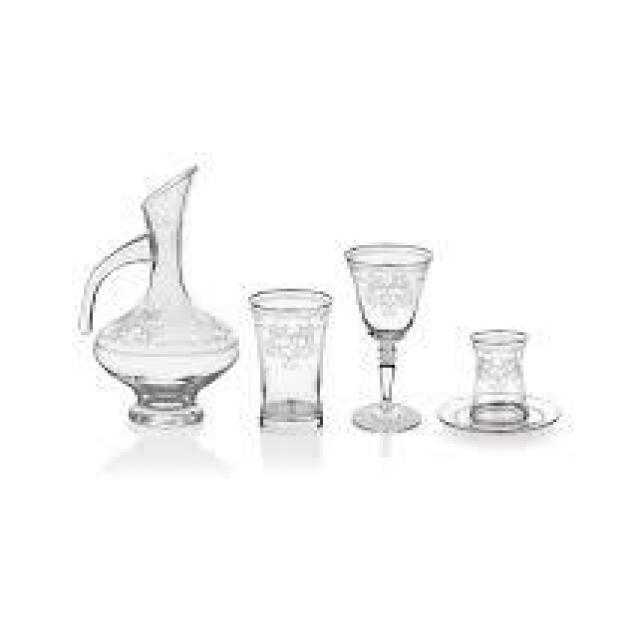non-organic waste: (72, 158, 236, 436), (338, 240, 437, 438), (241, 284, 336, 440), (435, 326, 567, 437)
